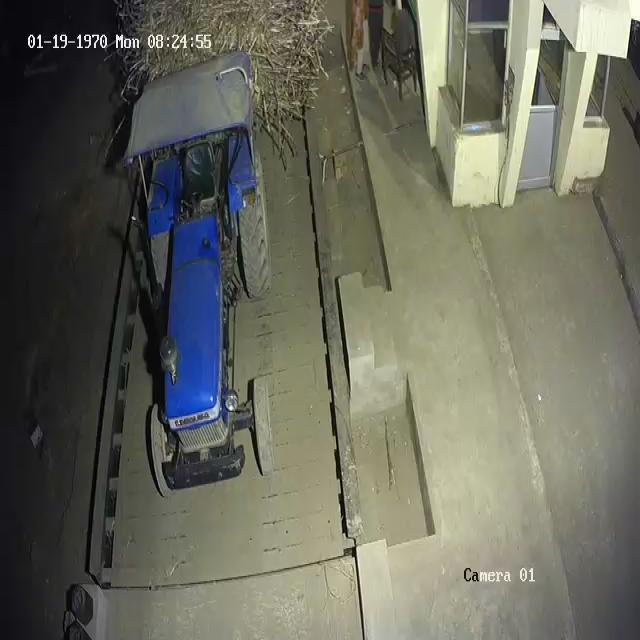Tratores - v5 YOLO V8L 2024-11-13: (123, 76, 286, 492)
